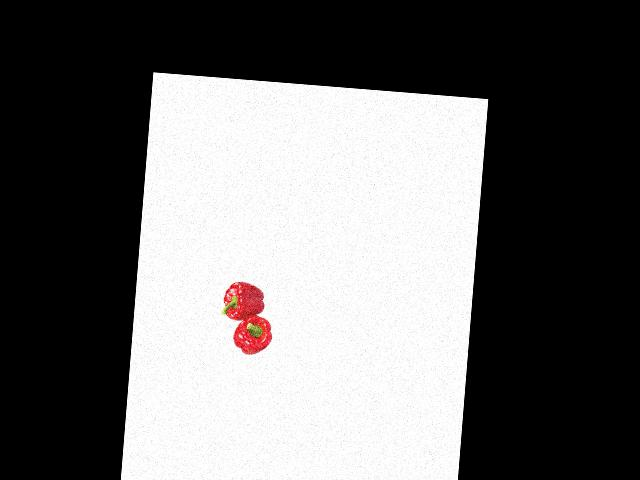bell_pepper: (219, 279, 269, 324)
